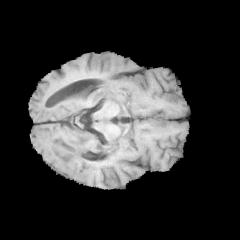glioma: (47, 142, 99, 180)
